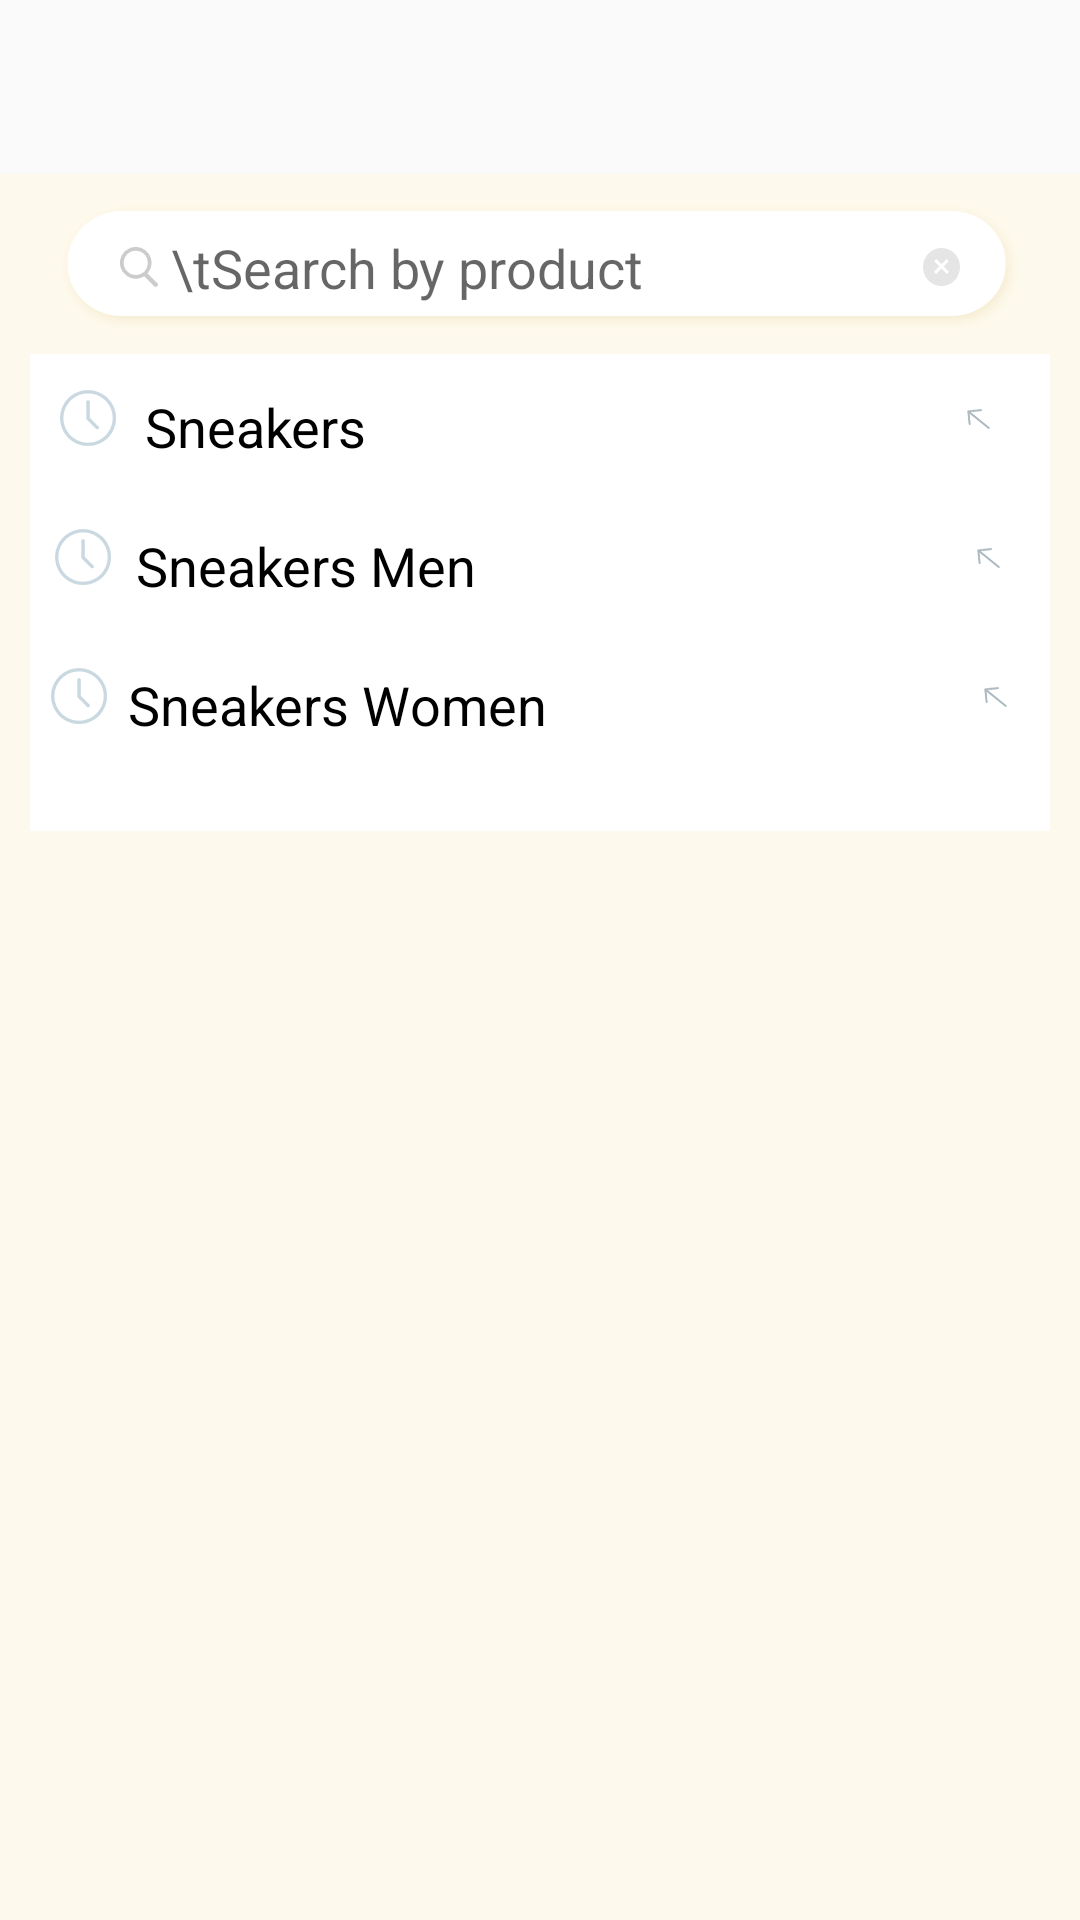

Icon click points for this 1080x1920 phone screenshot, format (x=x, y=y):
recentlysearch clock: (x=88, y=418), (x=83, y=557), (x=79, y=696)
